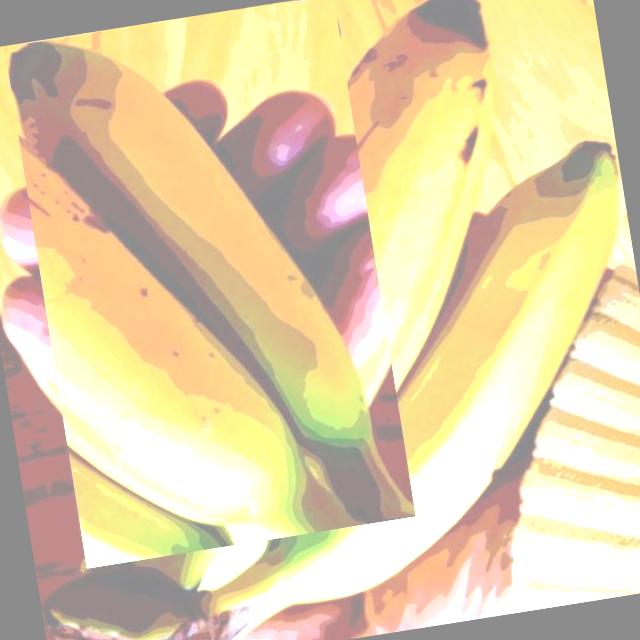Banana: (77, 0, 640, 640), (4, 0, 415, 568)
